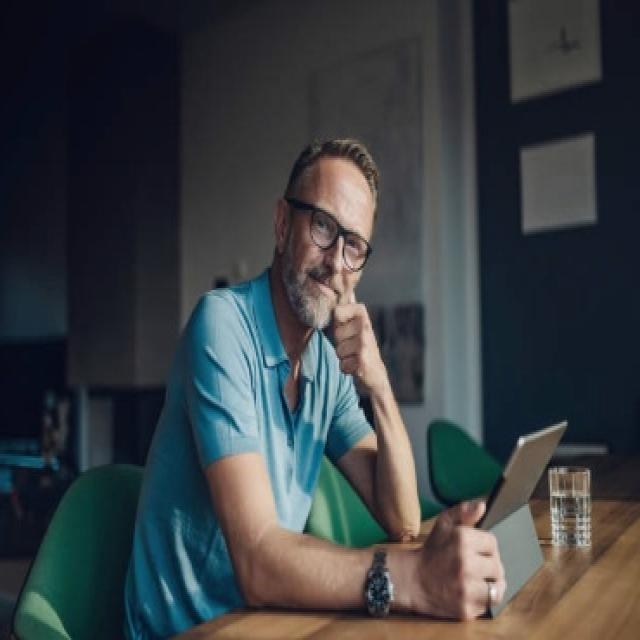adult: (122, 139, 456, 639)
